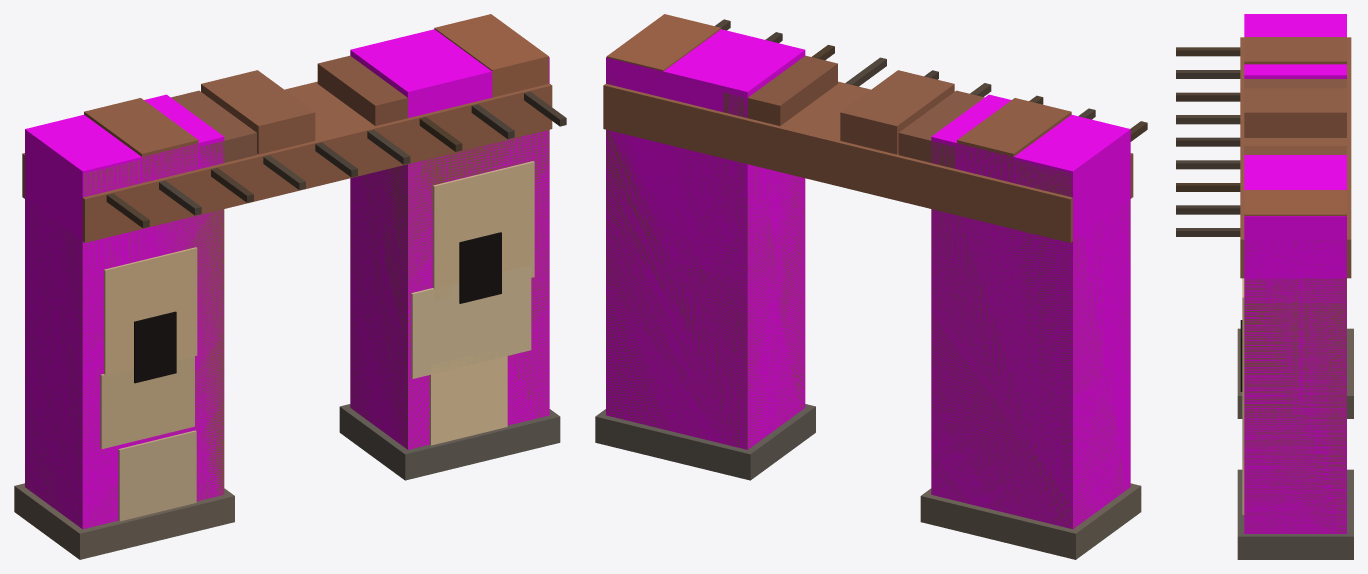
File: ENV_Gate_Brick_Ruin_A.glb
3 views of the same model, side by side, from view 1: azimuth 30°, elevation 25°; view 2: azimuth 150°, elevation 25°; view 3: azimuth 270°, elevation 25° (orthographic). The views are drawn at different scales.
Visible parts, largest first — view 1: ENV_Gate_Brick_Ruin_A_Mesh, COL_Pier_-1, COL_Pier_1; view 2: ENV_Gate_Brick_Ruin_A_Mesh, COL_Pier_-1, COL_Pier_1; view 3: ENV_Gate_Brick_Ruin_A_Mesh, COL_Pier_1, COL_Pier_-1.
Part boxes in pixels (x1,y1,x2,y2): ENV_Gate_Brick_Ruin_A_Mesh: [14, 14, 566, 559]; COL_Pier_-1: [25, 94, 224, 528]; COL_Pier_1: [350, 29, 549, 449]; ENV_Gate_Brick_Ruin_A_Mesh: [595, 14, 1147, 559]; COL_Pier_-1: [931, 94, 1130, 529]; COL_Pier_1: [606, 29, 805, 449]; ENV_Gate_Brick_Ruin_A_Mesh: [1176, 37, 1353, 559]; COL_Pier_1: [1244, 155, 1346, 533]; COL_Pier_-1: [1244, 14, 1346, 78].
Size of the model in its own units: 5.76 by 4.46 by 2.08.
